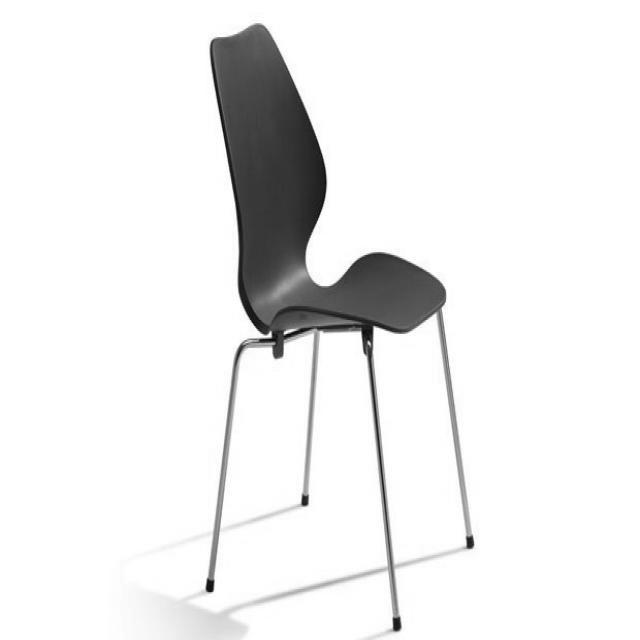chair: (199, 18, 476, 634)
